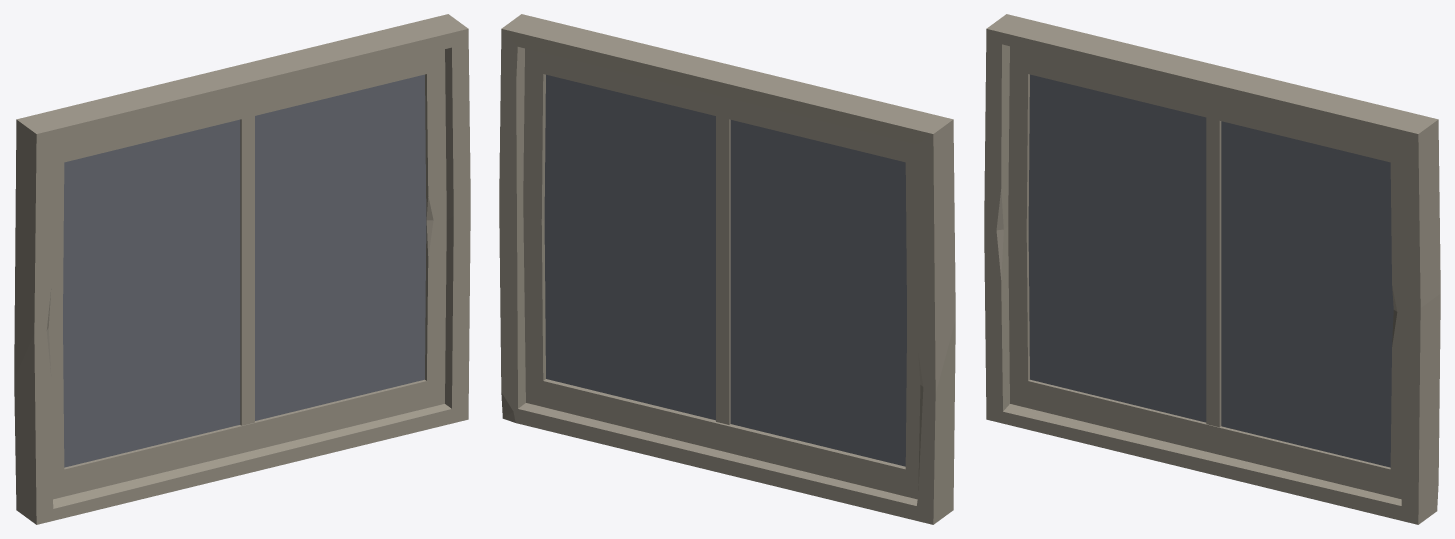
The model's file is Window_Broken.fbx.
3 renders of one model, left to right at view 1: azimuth 30°, elevation 25°; view 2: azimuth 150°, elevation 25°; view 3: azimuth 330°, elevation 25°, orthographic.
Visible parts, largest first — view 1: Window_Broken, Nine, Seven, Four, Six, Twelve, Eleven, Two, Five, Eight, Three, Ten (+4 smaller); view 2: Window_Broken, Nine, Seven, Four, Twelve, Six, Eleven, Two, Five, Eight, Ten, Three (+4 smaller); view 3: Window_Broken, Nine, Four, Seven, Eleven, Twelve, Six, Five, Two, Eight, Three, Ten (+4 smaller).
Boxes of the visible parts, box(x1,y1,x2,y2) form: Window_Broken: box(14, 14, 470, 524); Nine: box(63, 269, 240, 393); Seven: box(340, 219, 426, 380); Four: box(63, 208, 240, 307); Six: box(340, 74, 426, 240); Twelve: box(71, 350, 240, 465); Eleven: box(255, 326, 421, 420); Two: box(71, 119, 240, 208); Five: box(255, 75, 420, 182); Eight: box(255, 164, 340, 325); Three: box(151, 163, 339, 264); Ten: box(151, 274, 339, 373); Window_Broken: box(499, 14, 955, 524); Nine: box(730, 266, 906, 392); Seven: box(544, 219, 630, 379); Four: box(730, 208, 906, 306); Twelve: box(730, 350, 901, 465); Six: box(544, 74, 630, 239); Eleven: box(549, 326, 715, 420); Two: box(730, 120, 898, 207); Five: box(551, 76, 715, 182); Eight: box(630, 163, 715, 326); Ten: box(631, 271, 819, 371); Three: box(631, 162, 819, 260); Window_Broken: box(984, 14, 1440, 524); Nine: box(1028, 219, 1206, 328); Four: box(1028, 141, 1206, 266); Seven: box(1308, 287, 1393, 467); Eleven: box(1221, 352, 1389, 467); Twelve: box(1039, 328, 1206, 422); Six: box(1308, 162, 1393, 308); Five: box(1221, 121, 1388, 210); Two: box(1038, 76, 1206, 184); Eight: box(1221, 210, 1307, 373); Three: box(1119, 163, 1307, 263); Ten: box(1119, 274, 1307, 373).
Bounding box in the file's own units: 260 × 222 × 20.81.
1 material, 1 textured.
